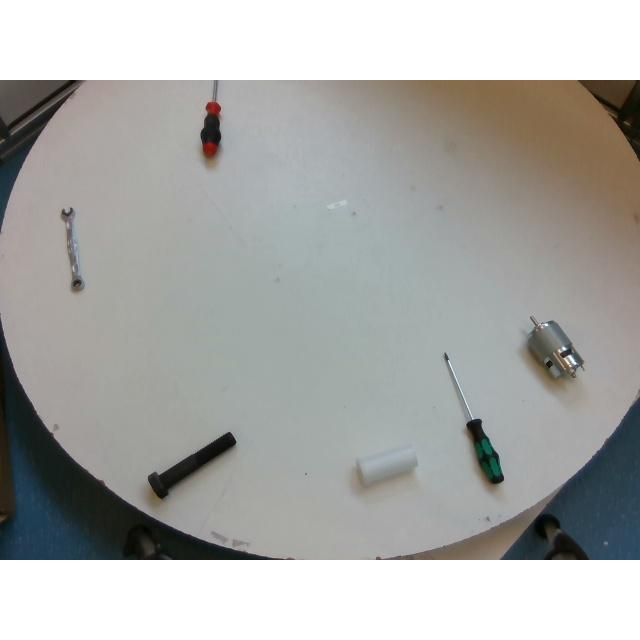M20_100: (148, 432, 236, 498)
Motor2: (528, 316, 584, 378)
Screwdriver: (443, 352, 503, 484)
Spacer: (356, 446, 416, 486)
Wrench: (61, 207, 85, 291)
